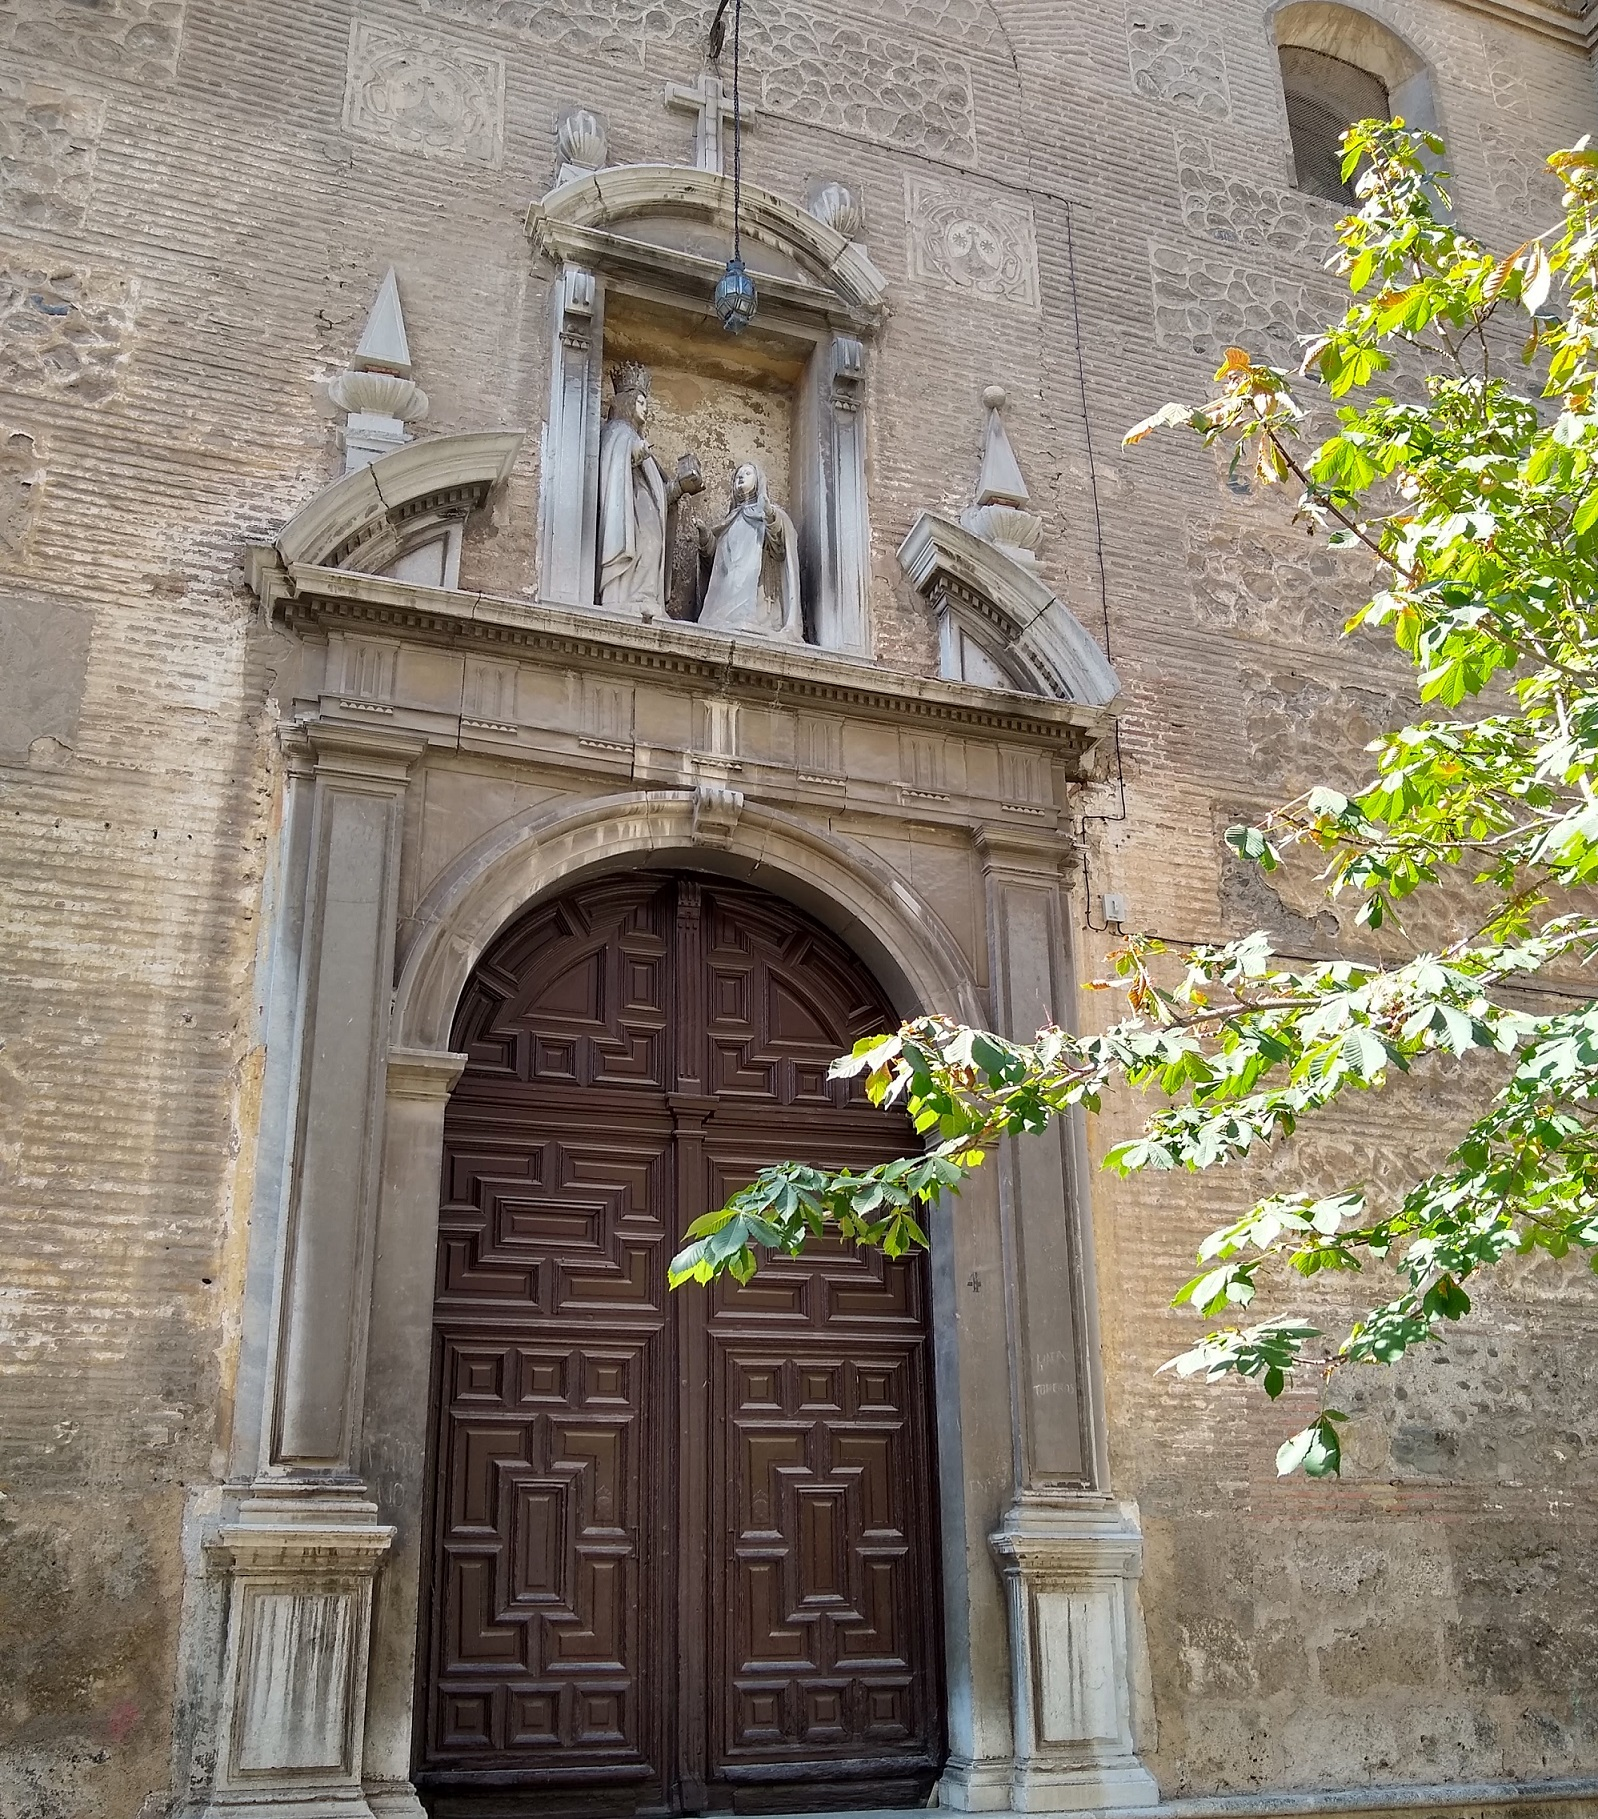arco-medio-punto: (432, 815, 968, 1162)
fronton-curvo: (531, 159, 896, 333)
fronton-partido: (260, 425, 1126, 749)
vano-adintelado: (545, 283, 863, 657)
